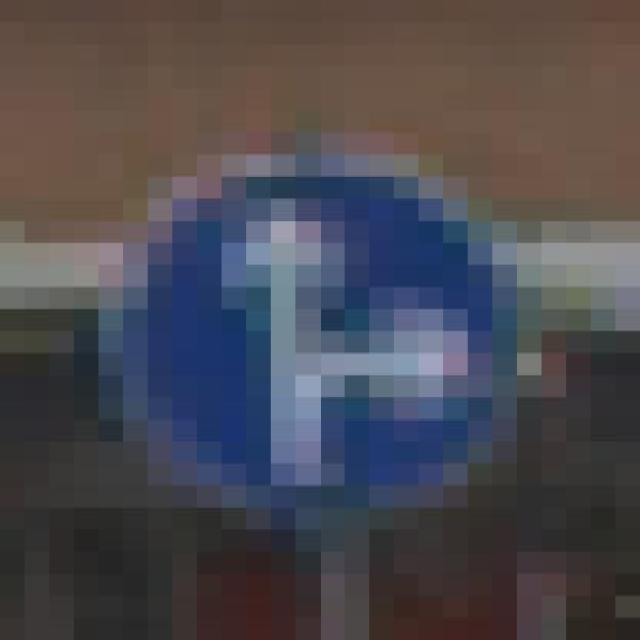Go Straight or Turn Right: (123, 89, 542, 552)
